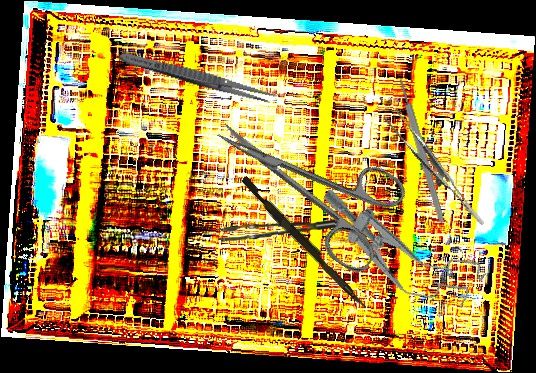Dressing Forceps: (117, 48, 279, 107)
Iris Scissors: (194, 83, 418, 278)
Pusher: (237, 175, 373, 311)
Scalpel Handle: (396, 77, 447, 225)
Speculum: (303, 176, 490, 325)
Tissue Forceps: (383, 100, 485, 240), (217, 216, 339, 245)
